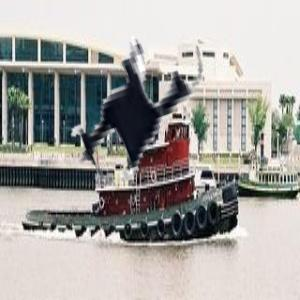drone: (27, 9, 229, 211)
